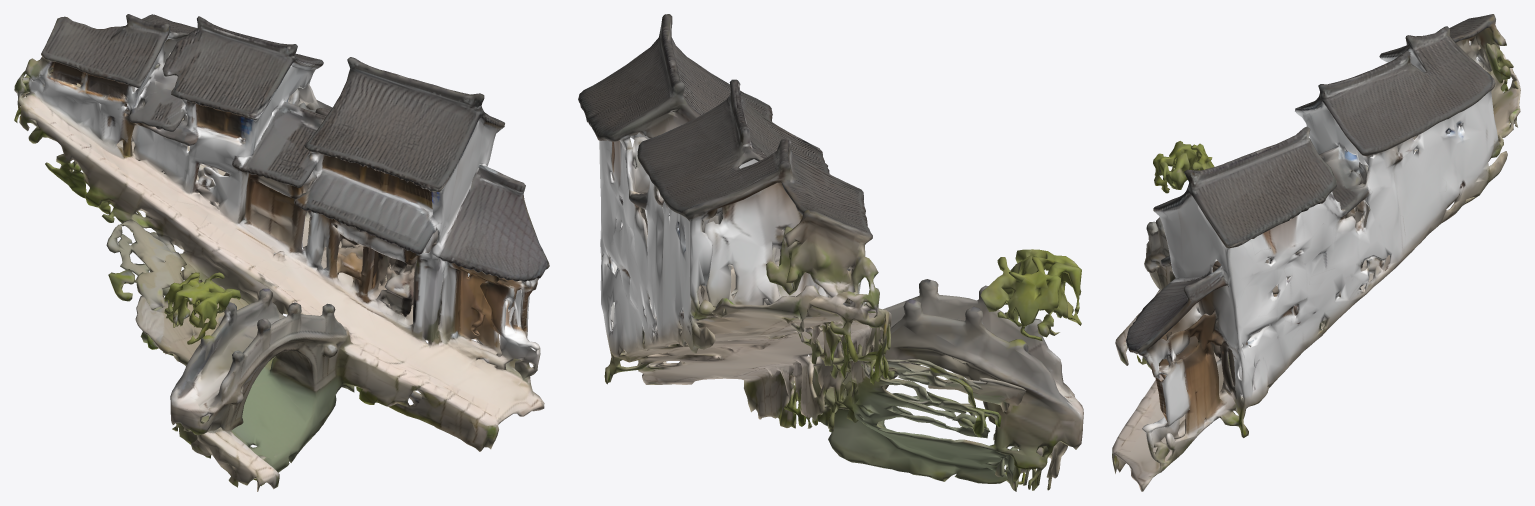
3 views of the same model, side by side, from view 1: azimuth 30°, elevation 25°; view 2: azimuth 150°, elevation 25°; view 3: azimuth 270°, elevation 25° (orthographic). The views are drawn at different scales.
Parts seen in each view (by area): view 1: material.001; view 2: material.001; view 3: material.001.
Part boxes in pixels (box(x1,y1,x2,y2)): material.001: box(14, 14, 549, 491); material.001: box(578, 14, 1083, 491); material.001: box(1112, 14, 1520, 491).
Bounding box in the file's own units: 0.7645 × 0.7372 × 0.7663.
1 material, 1 textured.
